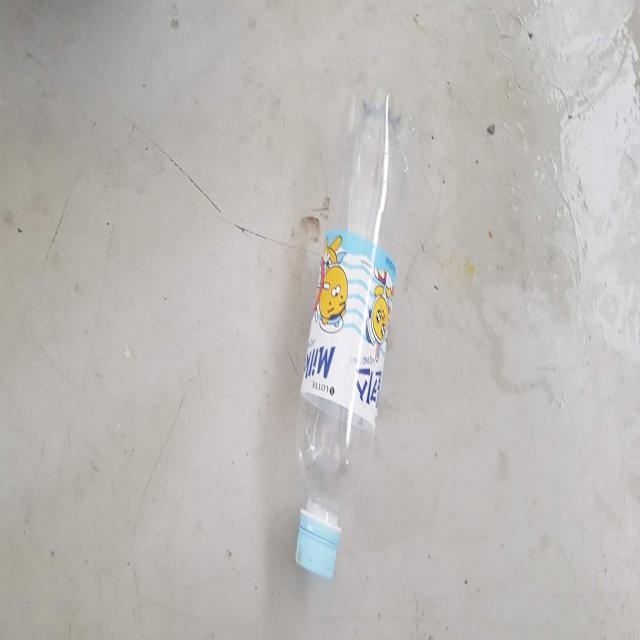plastic: (295, 88, 416, 578)
